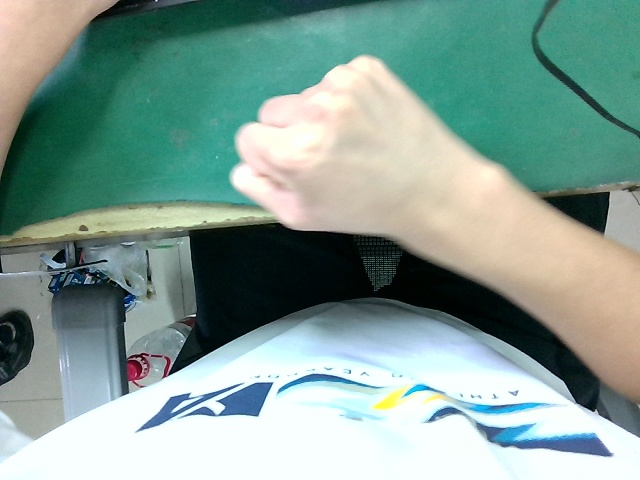stone: (224, 53, 434, 260)
